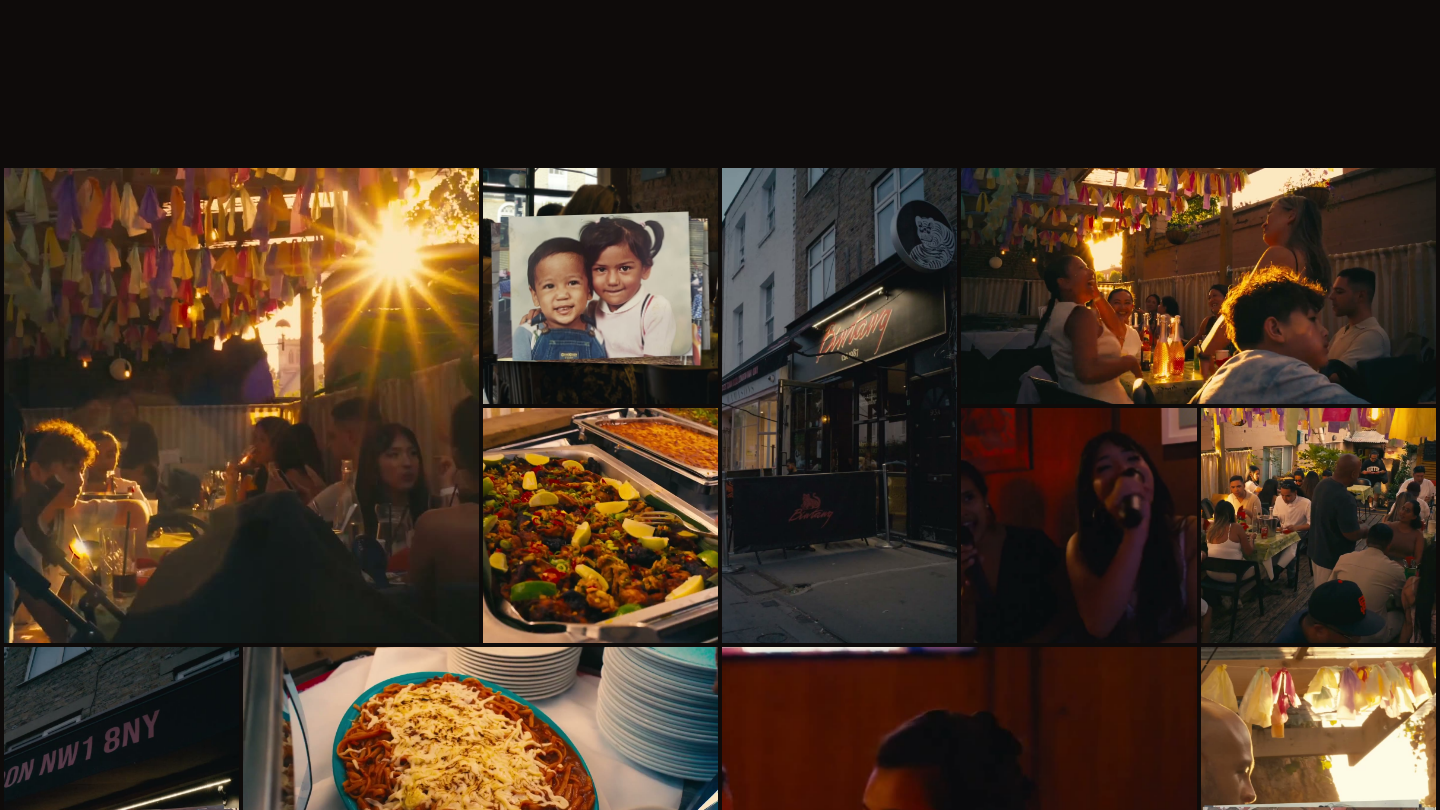
it: Gallery viewer › opens on the clicked photo with focus on Close
This screenshot has width=1440, height=810.
(page scrolled)
Click the button named "Open photo: The garden at golden hour".
click(241, 406)  # box [4,168,479,643]
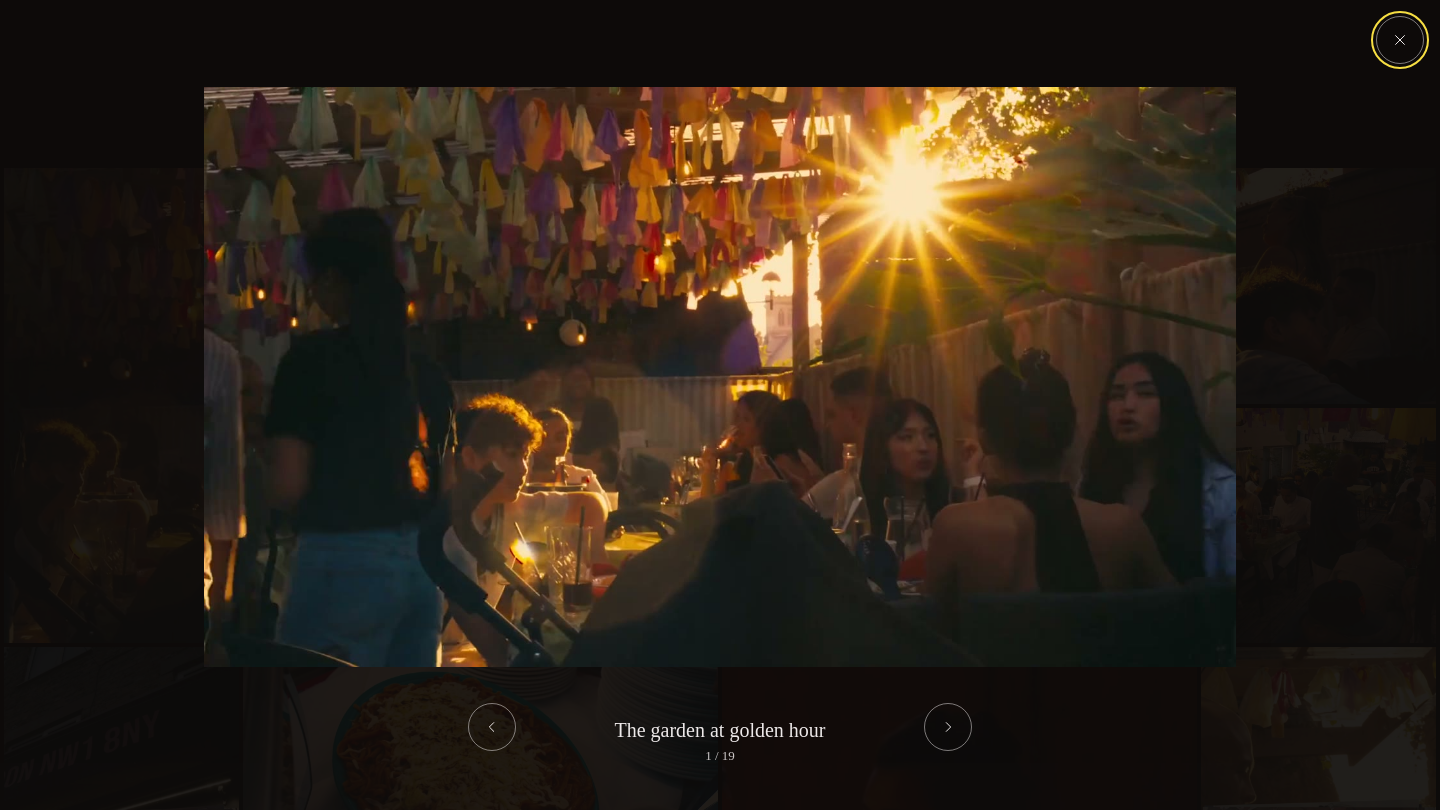
Check: the picture named "The garden at golden hour" is shown, box [170,86,1270,666]
